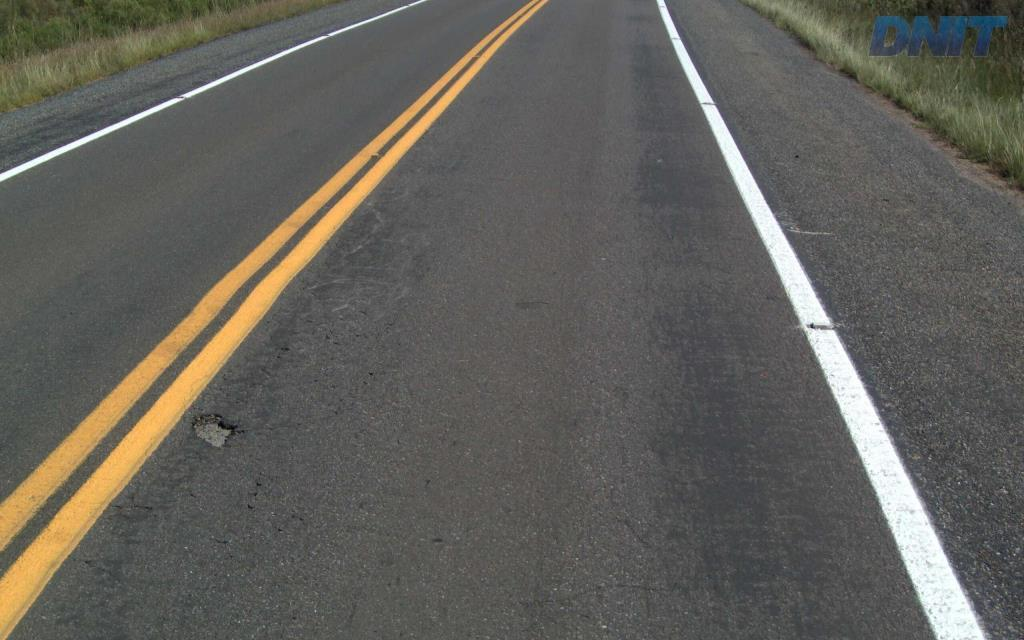pothole: (188, 408, 238, 448)
